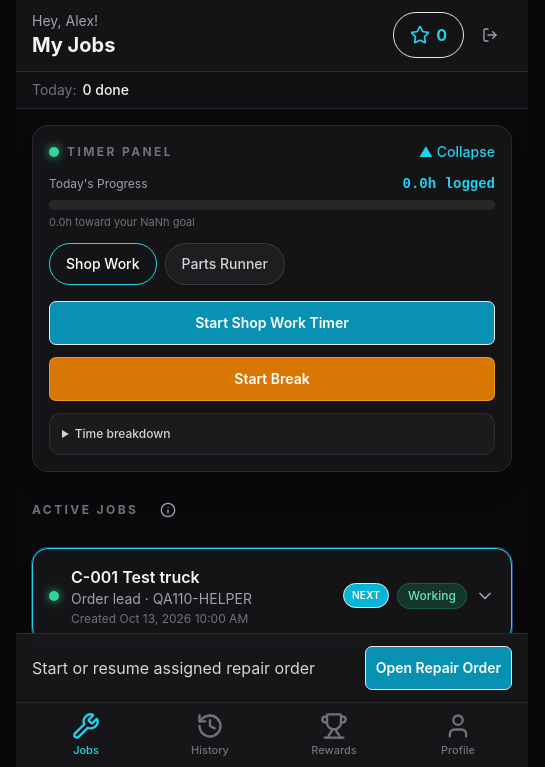
Test: mechanic operation workspace › keeps operation load failure distinct from successful empty legacy scope for the lead
Click the button that starts with "C-001 Test truck". click: (135, 576)
box: [33,548,511,642]
(page scrolled)
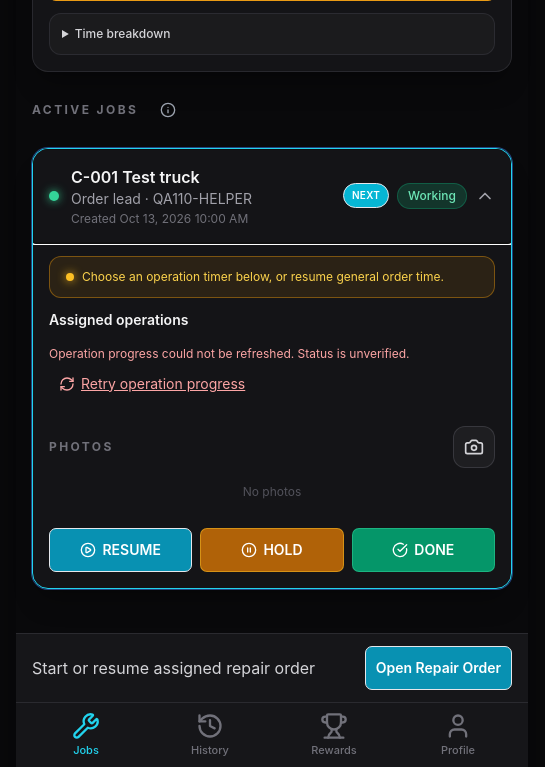
Check: the button "Retry operation progress" is shown, box [49,362,255,406]
